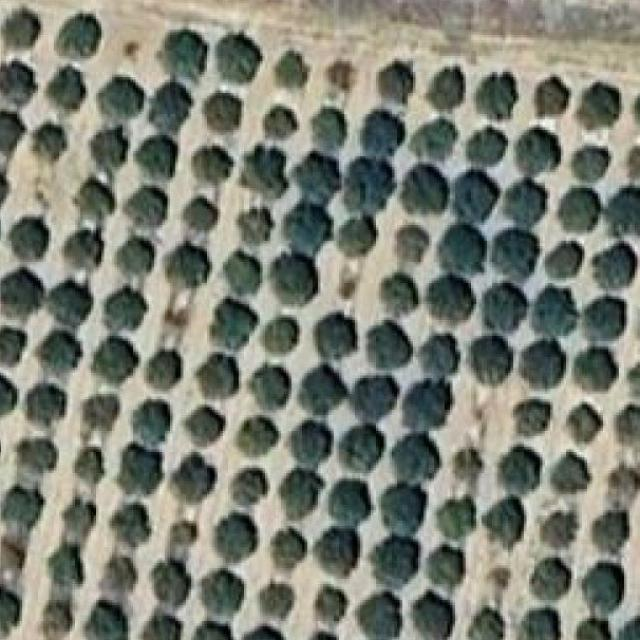Tree: (340, 154, 392, 210), (572, 558, 626, 610), (158, 32, 207, 88), (371, 531, 424, 582), (236, 146, 286, 200), (276, 209, 330, 259), (388, 434, 442, 484), (0, 265, 49, 320), (396, 380, 452, 428), (270, 259, 324, 308), (294, 366, 344, 417), (378, 482, 429, 532), (421, 63, 471, 113), (210, 38, 260, 88), (124, 399, 173, 449), (412, 591, 462, 640), (481, 281, 529, 332), (595, 235, 640, 289), (142, 82, 191, 131), (452, 170, 500, 220), (563, 140, 614, 187), (582, 294, 629, 345), (425, 275, 476, 322), (169, 455, 214, 508), (332, 211, 381, 259), (577, 80, 624, 130), (531, 286, 577, 337), (284, 420, 332, 468), (496, 444, 545, 491), (33, 327, 80, 376), (313, 526, 362, 573), (248, 365, 294, 415), (294, 151, 339, 202), (46, 280, 93, 328), (355, 592, 402, 640), (491, 230, 537, 279), (517, 341, 566, 387), (91, 336, 138, 383), (96, 77, 144, 123), (207, 304, 255, 350), (21, 383, 67, 431), (475, 72, 519, 122), (358, 109, 408, 153), (208, 518, 260, 560), (570, 349, 616, 396), (165, 244, 212, 290), (335, 426, 381, 473), (365, 320, 410, 368), (101, 286, 149, 331), (195, 355, 241, 401), (485, 498, 532, 543), (436, 223, 484, 267), (177, 408, 226, 451), (111, 235, 156, 281), (78, 389, 125, 433), (348, 378, 397, 420), (120, 447, 162, 496), (512, 128, 558, 172), (549, 450, 593, 496), (402, 162, 444, 210), (0, 3, 40, 53), (528, 556, 568, 606), (458, 125, 503, 169), (223, 209, 267, 254), (586, 510, 630, 555), (201, 573, 244, 619), (231, 413, 279, 454), (149, 561, 188, 611), (387, 223, 431, 267), (274, 471, 318, 515), (504, 181, 547, 226), (317, 315, 360, 360), (558, 186, 600, 232), (136, 133, 178, 179), (508, 394, 555, 435), (263, 523, 304, 570), (53, 17, 101, 57), (431, 498, 479, 538), (412, 118, 457, 160), (416, 334, 461, 376), (444, 442, 489, 484), (60, 230, 107, 270), (308, 584, 352, 626), (221, 254, 267, 294), (607, 186, 640, 241), (517, 603, 566, 640), (328, 482, 371, 524), (369, 59, 413, 100), (223, 462, 267, 503), (538, 508, 578, 553), (86, 125, 125, 171), (200, 91, 247, 129), (308, 107, 350, 149), (469, 334, 510, 377), (187, 146, 230, 187), (122, 186, 167, 225), (44, 64, 82, 110), (34, 122, 70, 169), (115, 499, 154, 542), (74, 180, 112, 224), (374, 276, 418, 314), (85, 603, 130, 640), (15, 440, 61, 476), (0, 53, 33, 103), (562, 402, 603, 442), (5, 214, 46, 254), (57, 498, 98, 538), (138, 349, 180, 388), (34, 603, 77, 640), (261, 104, 302, 142), (46, 542, 82, 585), (0, 486, 38, 526), (544, 241, 584, 278), (428, 545, 466, 582), (98, 556, 135, 594), (533, 77, 569, 116), (276, 51, 310, 92), (469, 605, 508, 640), (601, 466, 637, 502), (260, 316, 297, 351), (259, 578, 297, 612), (158, 516, 196, 550), (70, 449, 106, 484), (324, 56, 358, 93), (143, 613, 186, 640), (611, 408, 640, 448), (578, 610, 616, 640), (0, 583, 25, 628), (184, 199, 218, 231), (0, 325, 25, 363), (486, 558, 515, 590), (188, 621, 235, 640), (0, 107, 20, 151), (620, 144, 640, 187), (0, 536, 22, 574), (0, 371, 15, 416), (244, 628, 291, 640), (626, 357, 640, 394), (616, 619, 640, 640), (295, 631, 343, 640), (0, 172, 9, 208)
